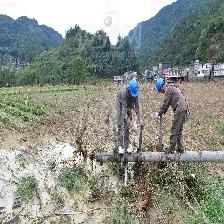helmet: (130, 77, 139, 98), (157, 76, 164, 93)
no-vest: (166, 86, 185, 114)
person: (156, 76, 187, 152), (116, 74, 140, 156)
